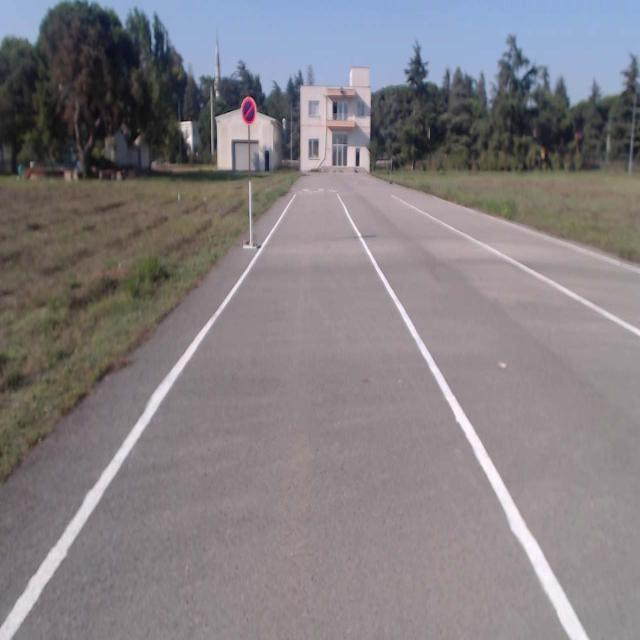parkyasak: (242, 96, 256, 124)
